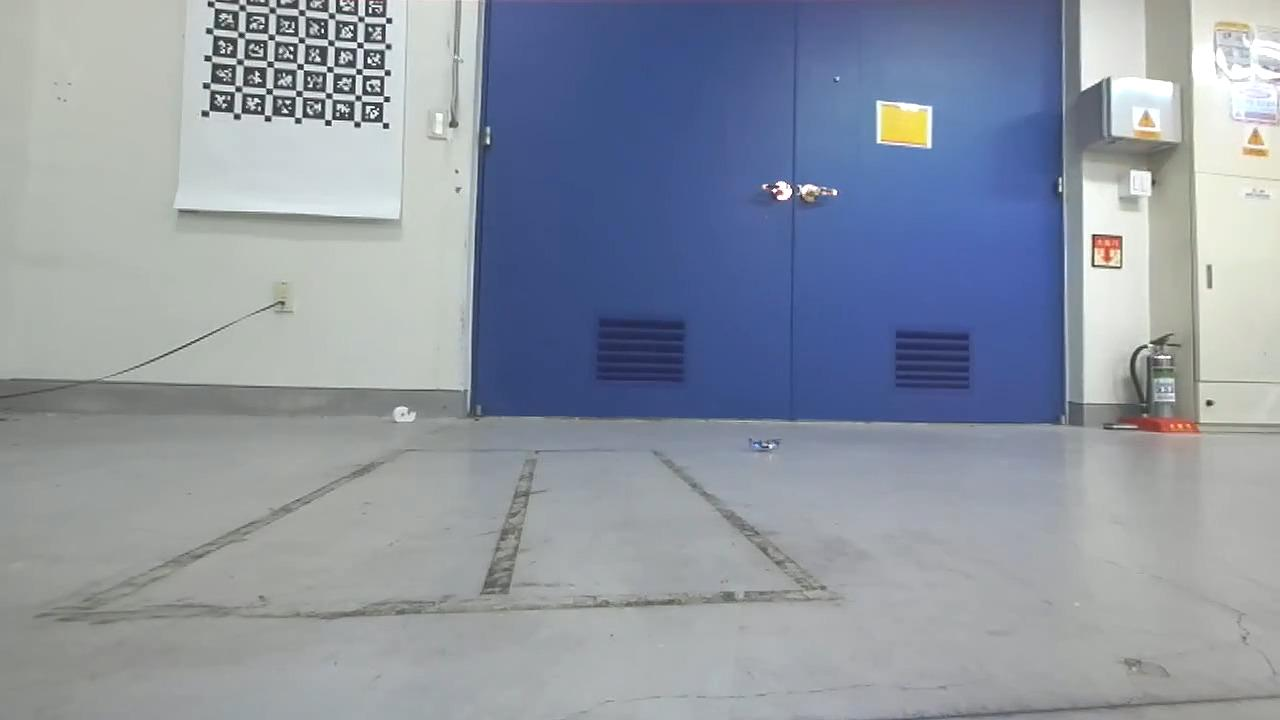crazyflie: (742, 435, 784, 456)
